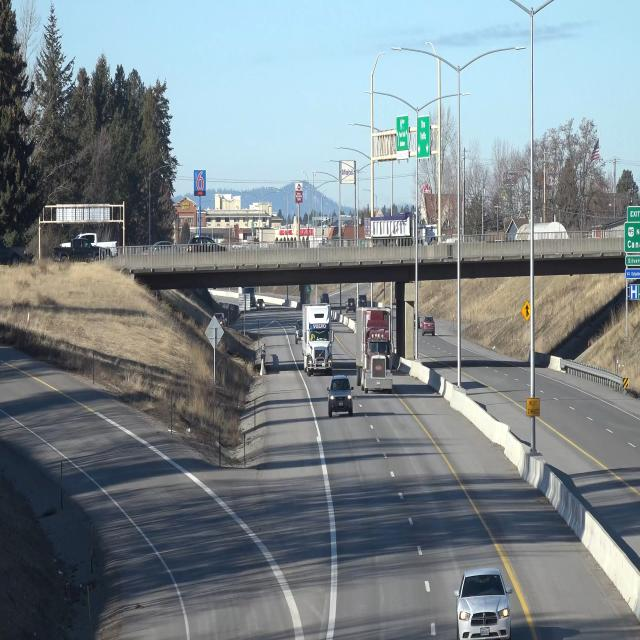Car: (452, 569, 512, 633), (326, 373, 357, 416)
